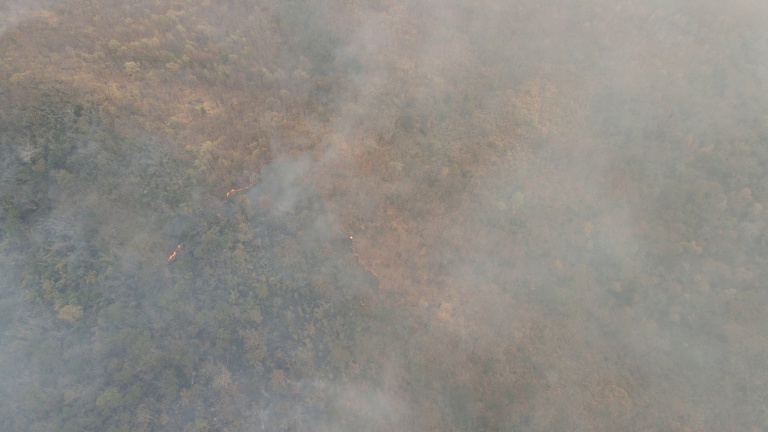fire: (334, 230, 387, 302), (219, 155, 279, 216), (158, 238, 185, 268)
smoke: (2, 218, 768, 431), (255, 1, 768, 218)
